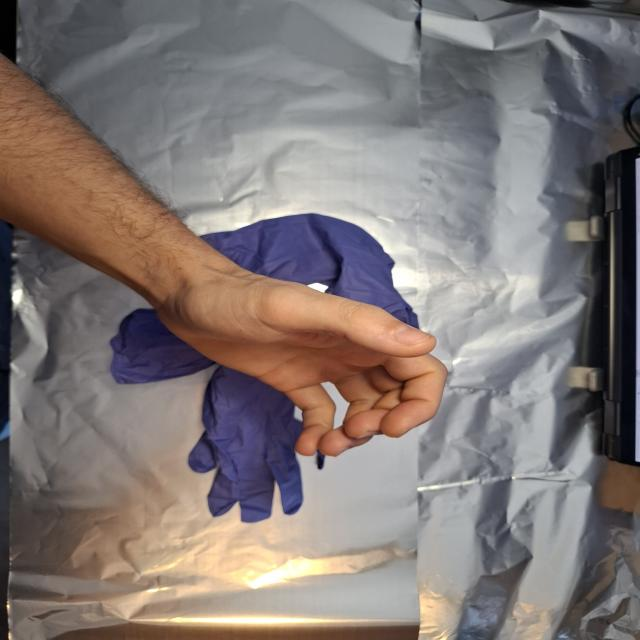glove_off: (148, 263, 451, 458)
